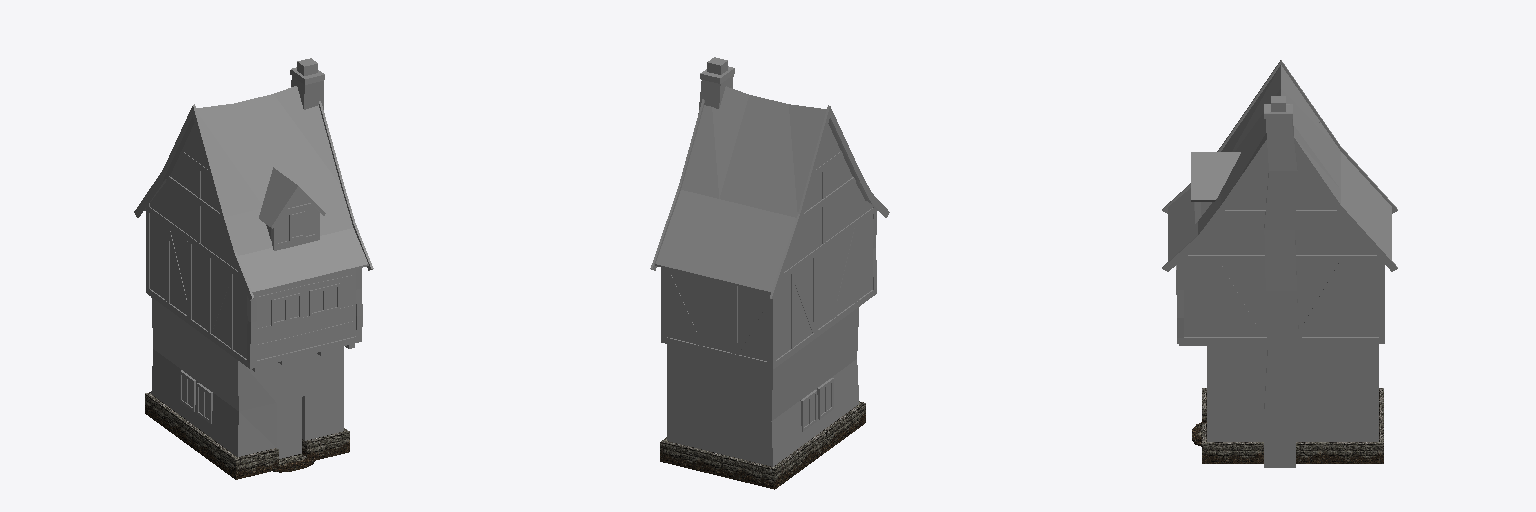
3 views of the same model, side by side, from view 1: azimuth 30°, elevation 25°; view 2: azimuth 150°, elevation 25°; view 3: azimuth 270°, elevation 25° (orthographic).
Visible parts, largest first — view 1: Object045; view 2: Object045; view 3: Object045.
Boxes of the visible parts, box(x1,y1,x2,y2) form: Object045: box(134, 58, 373, 479); Object045: box(650, 57, 889, 489); Object045: box(1162, 60, 1397, 467).
Bounding box in the file's own units: 420 × 1163 × 687.
10 materials, 1 textured.